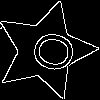O: (20, 26, 78, 76)
